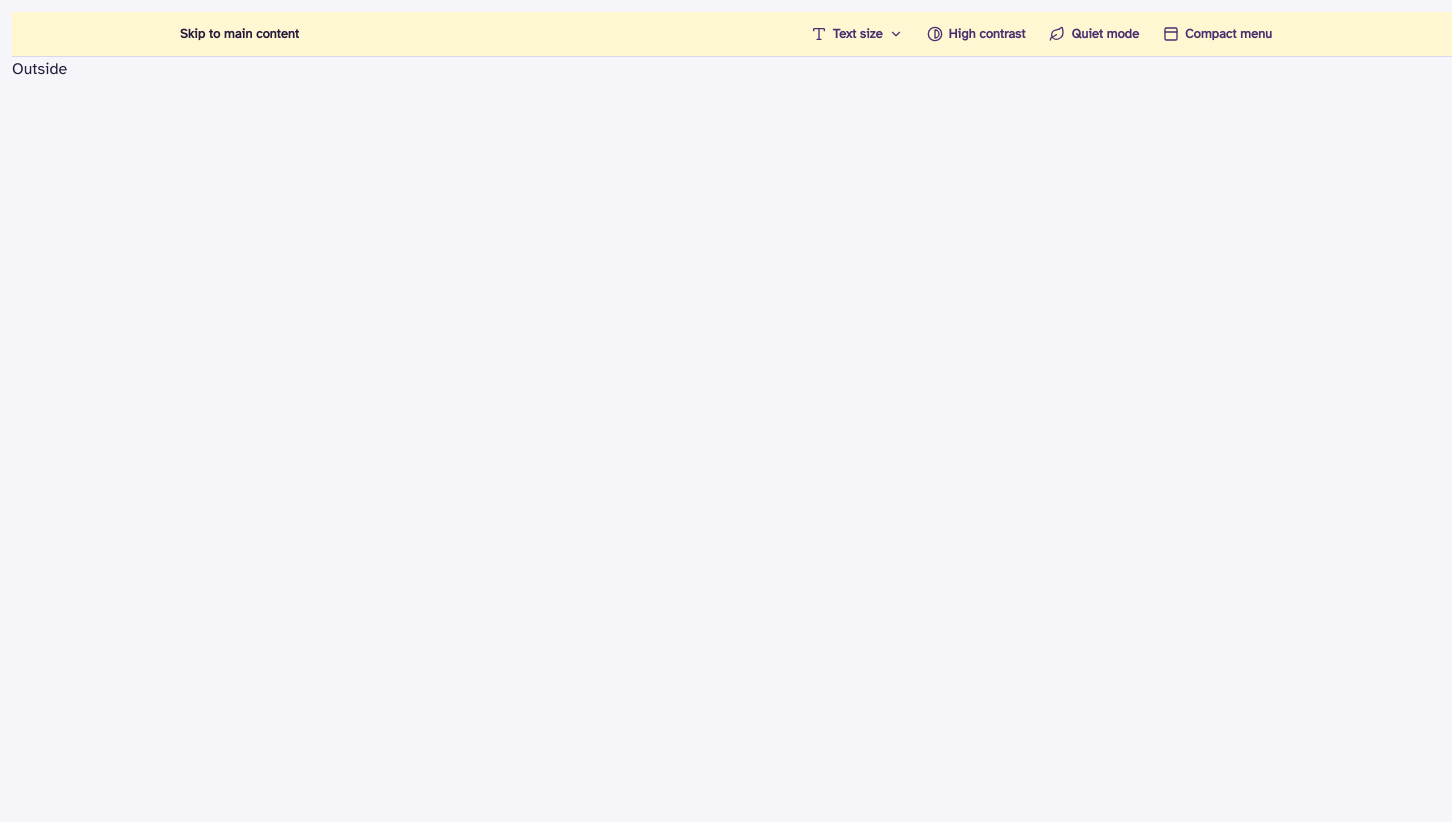
UtilityBar › while the thumb is dragged, previews the size and applies it only when let go
The image size is (1452, 822).
Click the button named "Text size: 100%" at point(857, 34), box [799, 12, 914, 56]
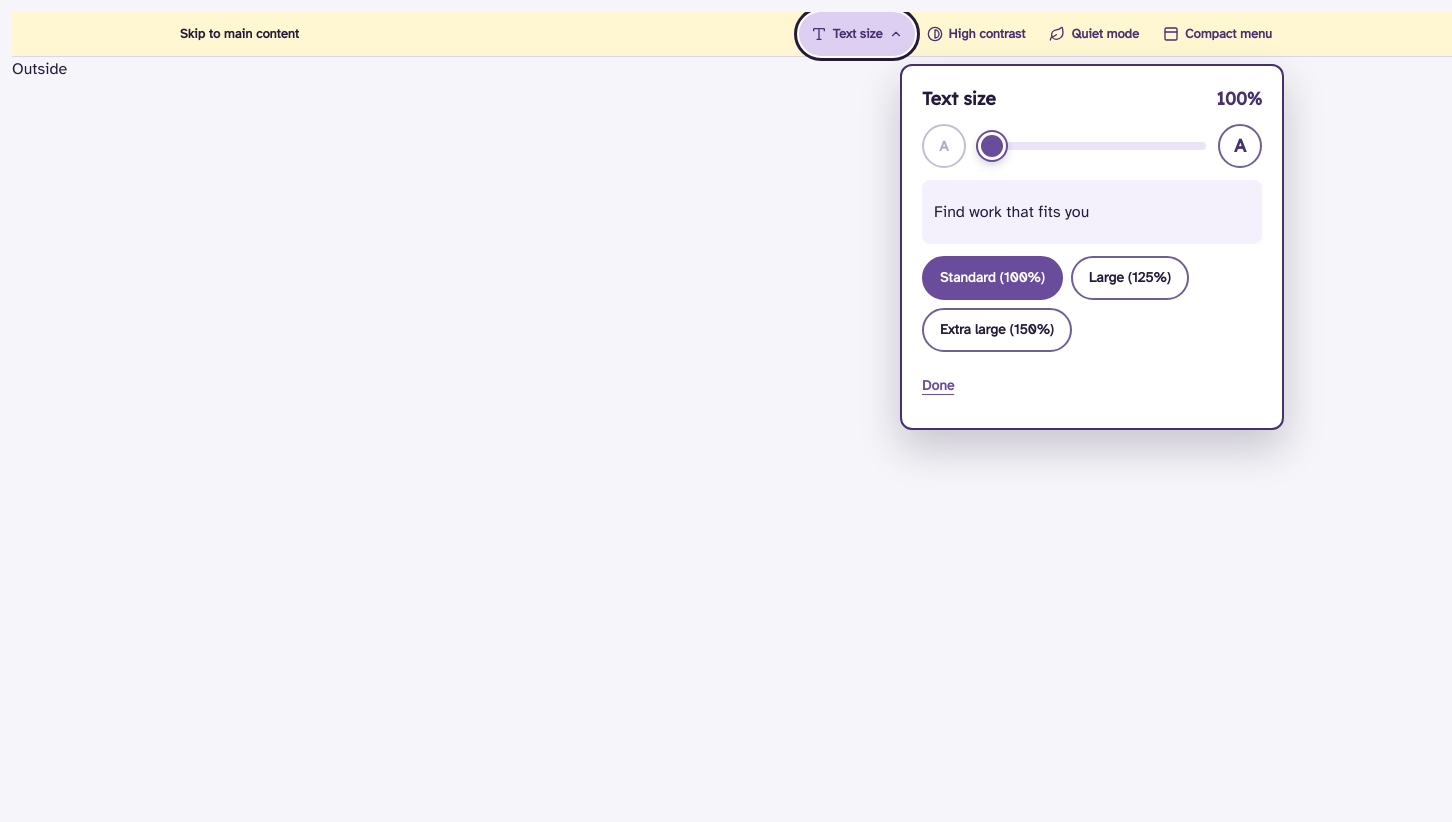
Press the mouse on the slider labelled "Text size" at point(1092, 146), box [978, 124, 1206, 168]
Set the slider labelled "Text size" to "160" at point(1113, 146), box [978, 124, 1206, 168]
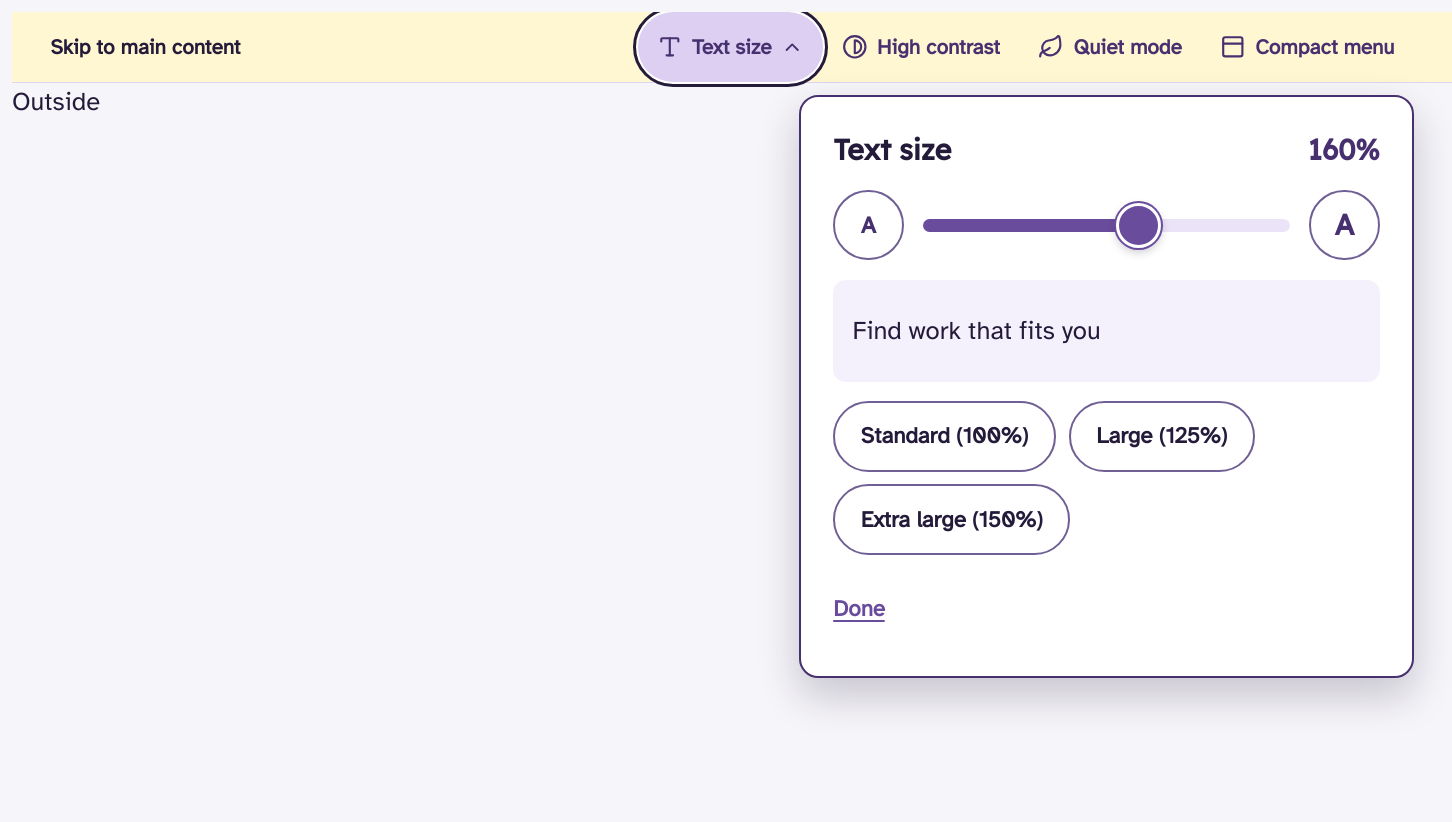
Expected: the text "160%" is shown, [1308, 130, 1380, 169]
